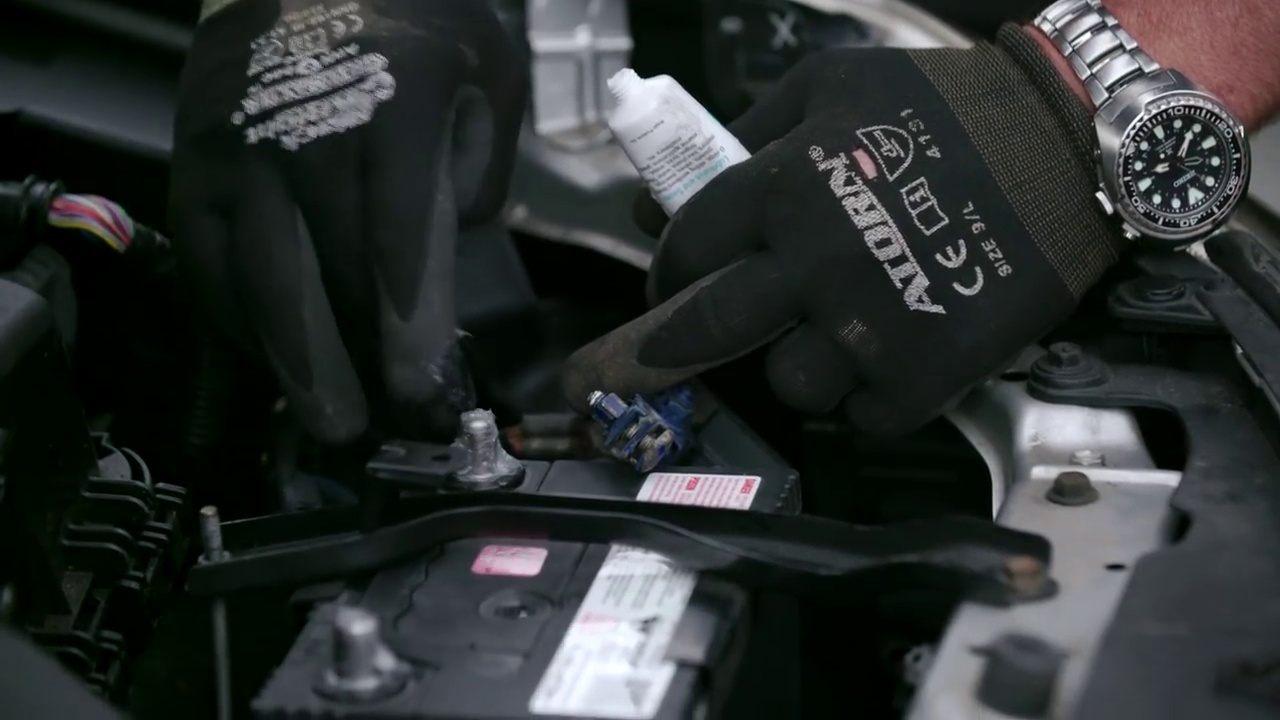battery: (259, 441, 795, 720)
